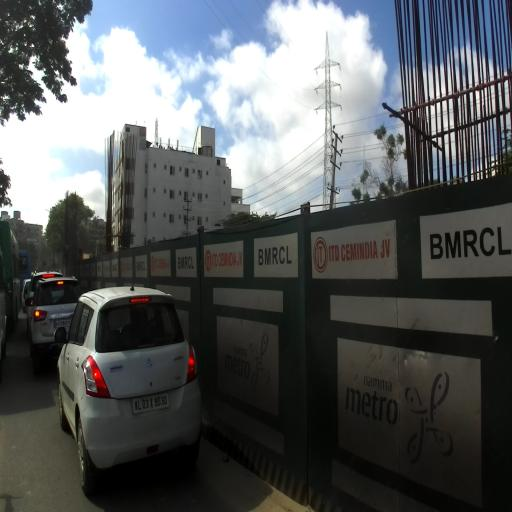street_light_0: (45, 209, 55, 215), (53, 211, 62, 215)
